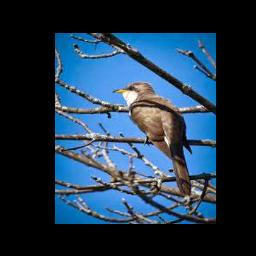Cuckoo: (114, 82, 194, 196)
